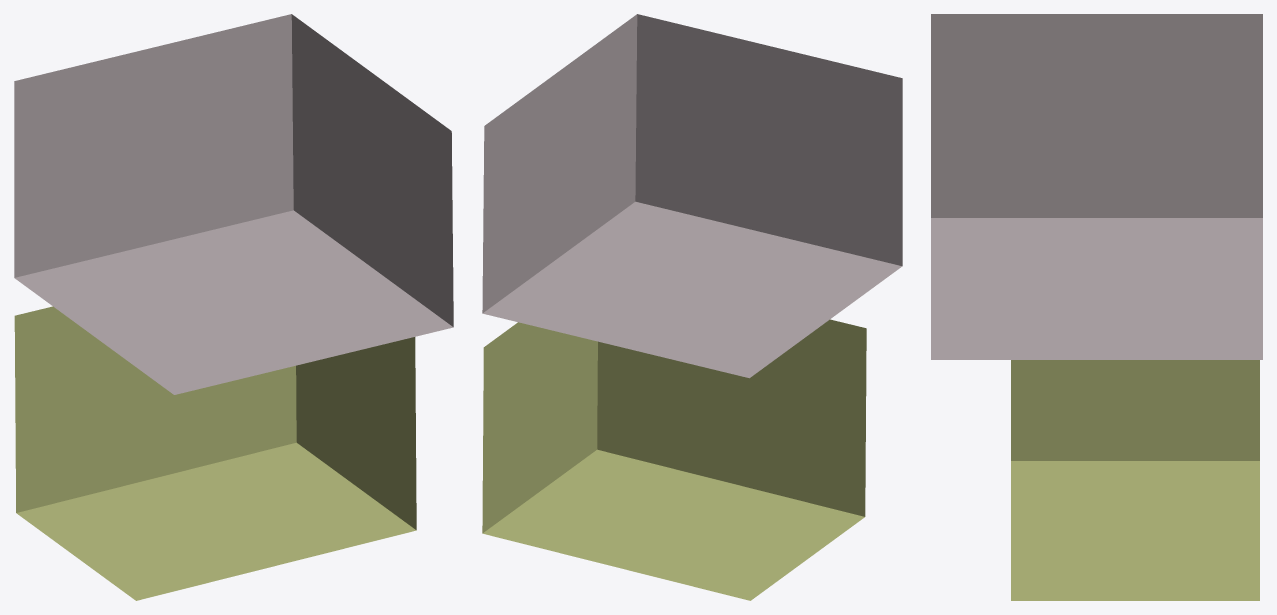
3 views of the same model, side by side, from view 1: azimuth 30°, elevation 25°; view 2: azimuth 150°, elevation 25°; view 3: azimuth 270°, elevation 25° (orthographic). The views are drawn at different scales.
Parts seen in each view (by area): view 1: 0_2_2_0_0_0_1_2_2_0; view 2: 0_2_2_0_0_0_1_2_2_0; view 3: 0_2_2_0_0_0_1_2_2_0.
Part boxes in pixels (x1,y1,x2,y2): 0_2_2_0_0_0_1_2_2_0: [14, 14, 453, 600]; 0_2_2_0_0_0_1_2_2_0: [482, 14, 902, 600]; 0_2_2_0_0_0_1_2_2_0: [931, 14, 1262, 600].
Size of the model in its own units: 12.21 by 17.83 by 12.
